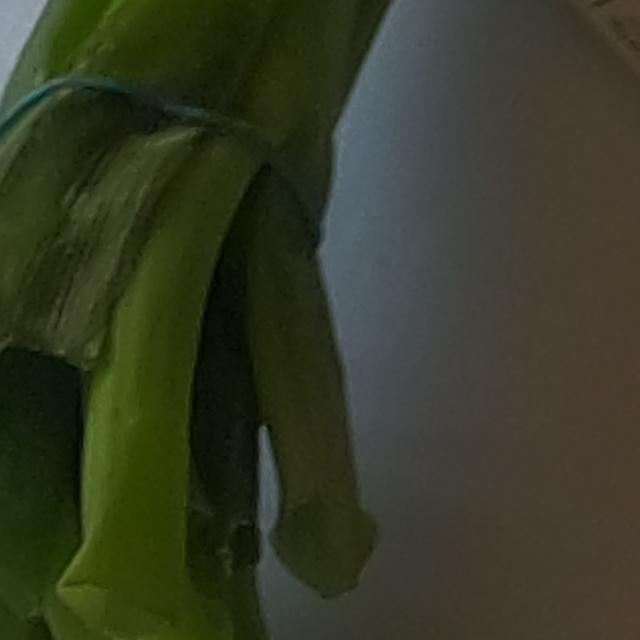green_onion: (0, 0, 400, 640)
